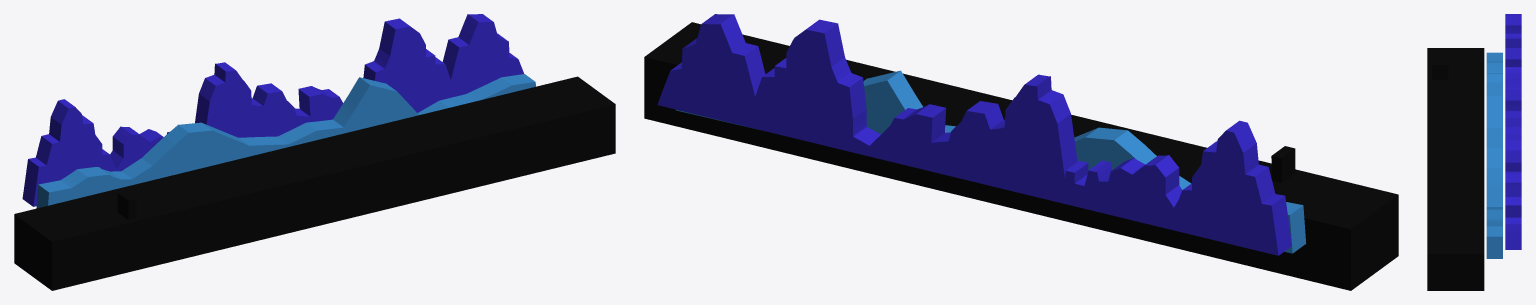
The model's file is testModel_14.dae.
3 views of the same model, side by side, from view 1: azimuth 30°, elevation 25°; view 2: azimuth 150°, elevation 25°; view 3: azimuth 270°, elevation 25° (orthographic). The views are drawn at different scales.
Visible parts, largest first — view 1: Ground, Foreground, Midground, Character; view 2: Foreground, Ground, Midground, Character; view 3: Ground, Foreground, Midground, Character.
Part boxes in pixels (box(x1,y1,x2,y2)): Ground: box(14, 76, 615, 290); Foreground: box(22, 14, 523, 206); Midground: box(36, 74, 535, 208); Character: box(117, 191, 136, 220); Foreground: box(657, 14, 1291, 255); Ground: box(644, 22, 1398, 290); Midground: box(675, 70, 1306, 253); Character: box(1271, 146, 1295, 182); Ground: box(1427, 48, 1484, 290); Foreground: box(1505, 14, 1521, 249); Midground: box(1486, 52, 1502, 258); Character: box(1432, 62, 1448, 79).
Size of the model in its own units: 6000 by 1299 by 1156.
